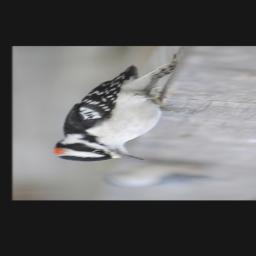Woodpecker: (40, 53, 181, 167)
